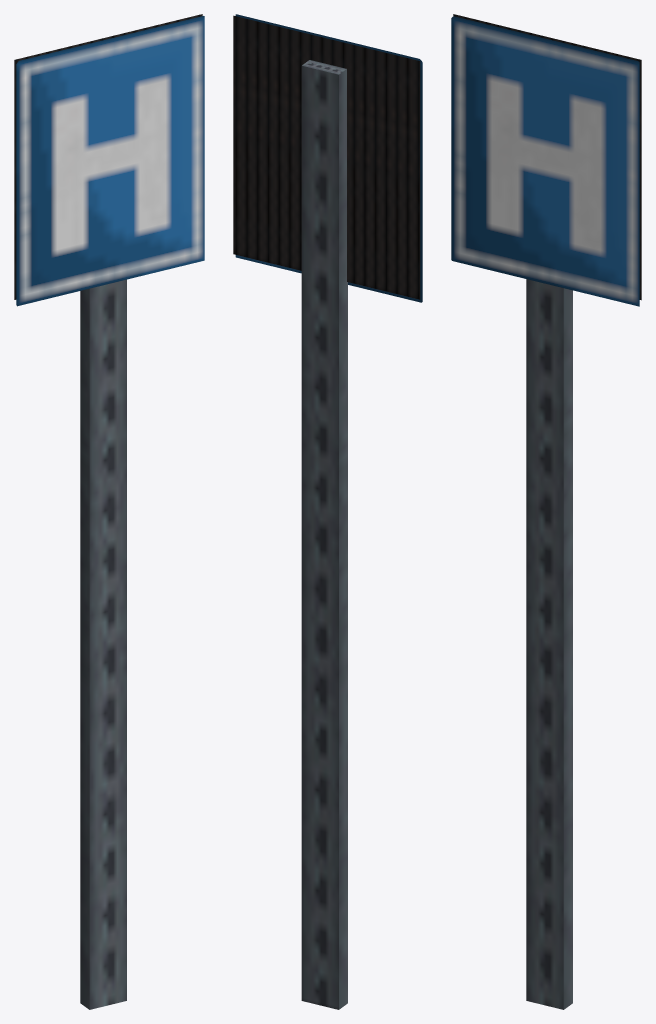
Rendered from BGN_SIGN(H).fbx.
3 renders of one model, left to right at view 1: azimuth 30°, elevation 25°; view 2: azimuth 150°, elevation 25°; view 3: azimuth 330°, elevation 25°, orthographic.
Parts seen in each view (by area): view 1: BGN_SIGN_H_; view 2: BGN_SIGN_H_; view 3: BGN_SIGN_H_.
Part boxes in pixels (<box>): BGN_SIGN_H_: <box>14,14,204,1009</box>; BGN_SIGN_H_: <box>233,14,422,1009</box>; BGN_SIGN_H_: <box>451,14,641,1009</box>.
Bounding box in the file's own units: 91.52 × 449 × 8.55.
1 material, 1 textured.
